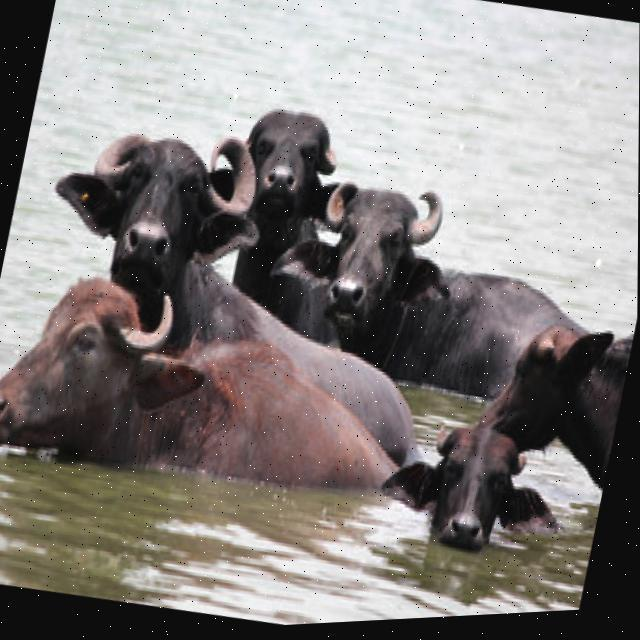Buffalo: (0, 237, 419, 535)
